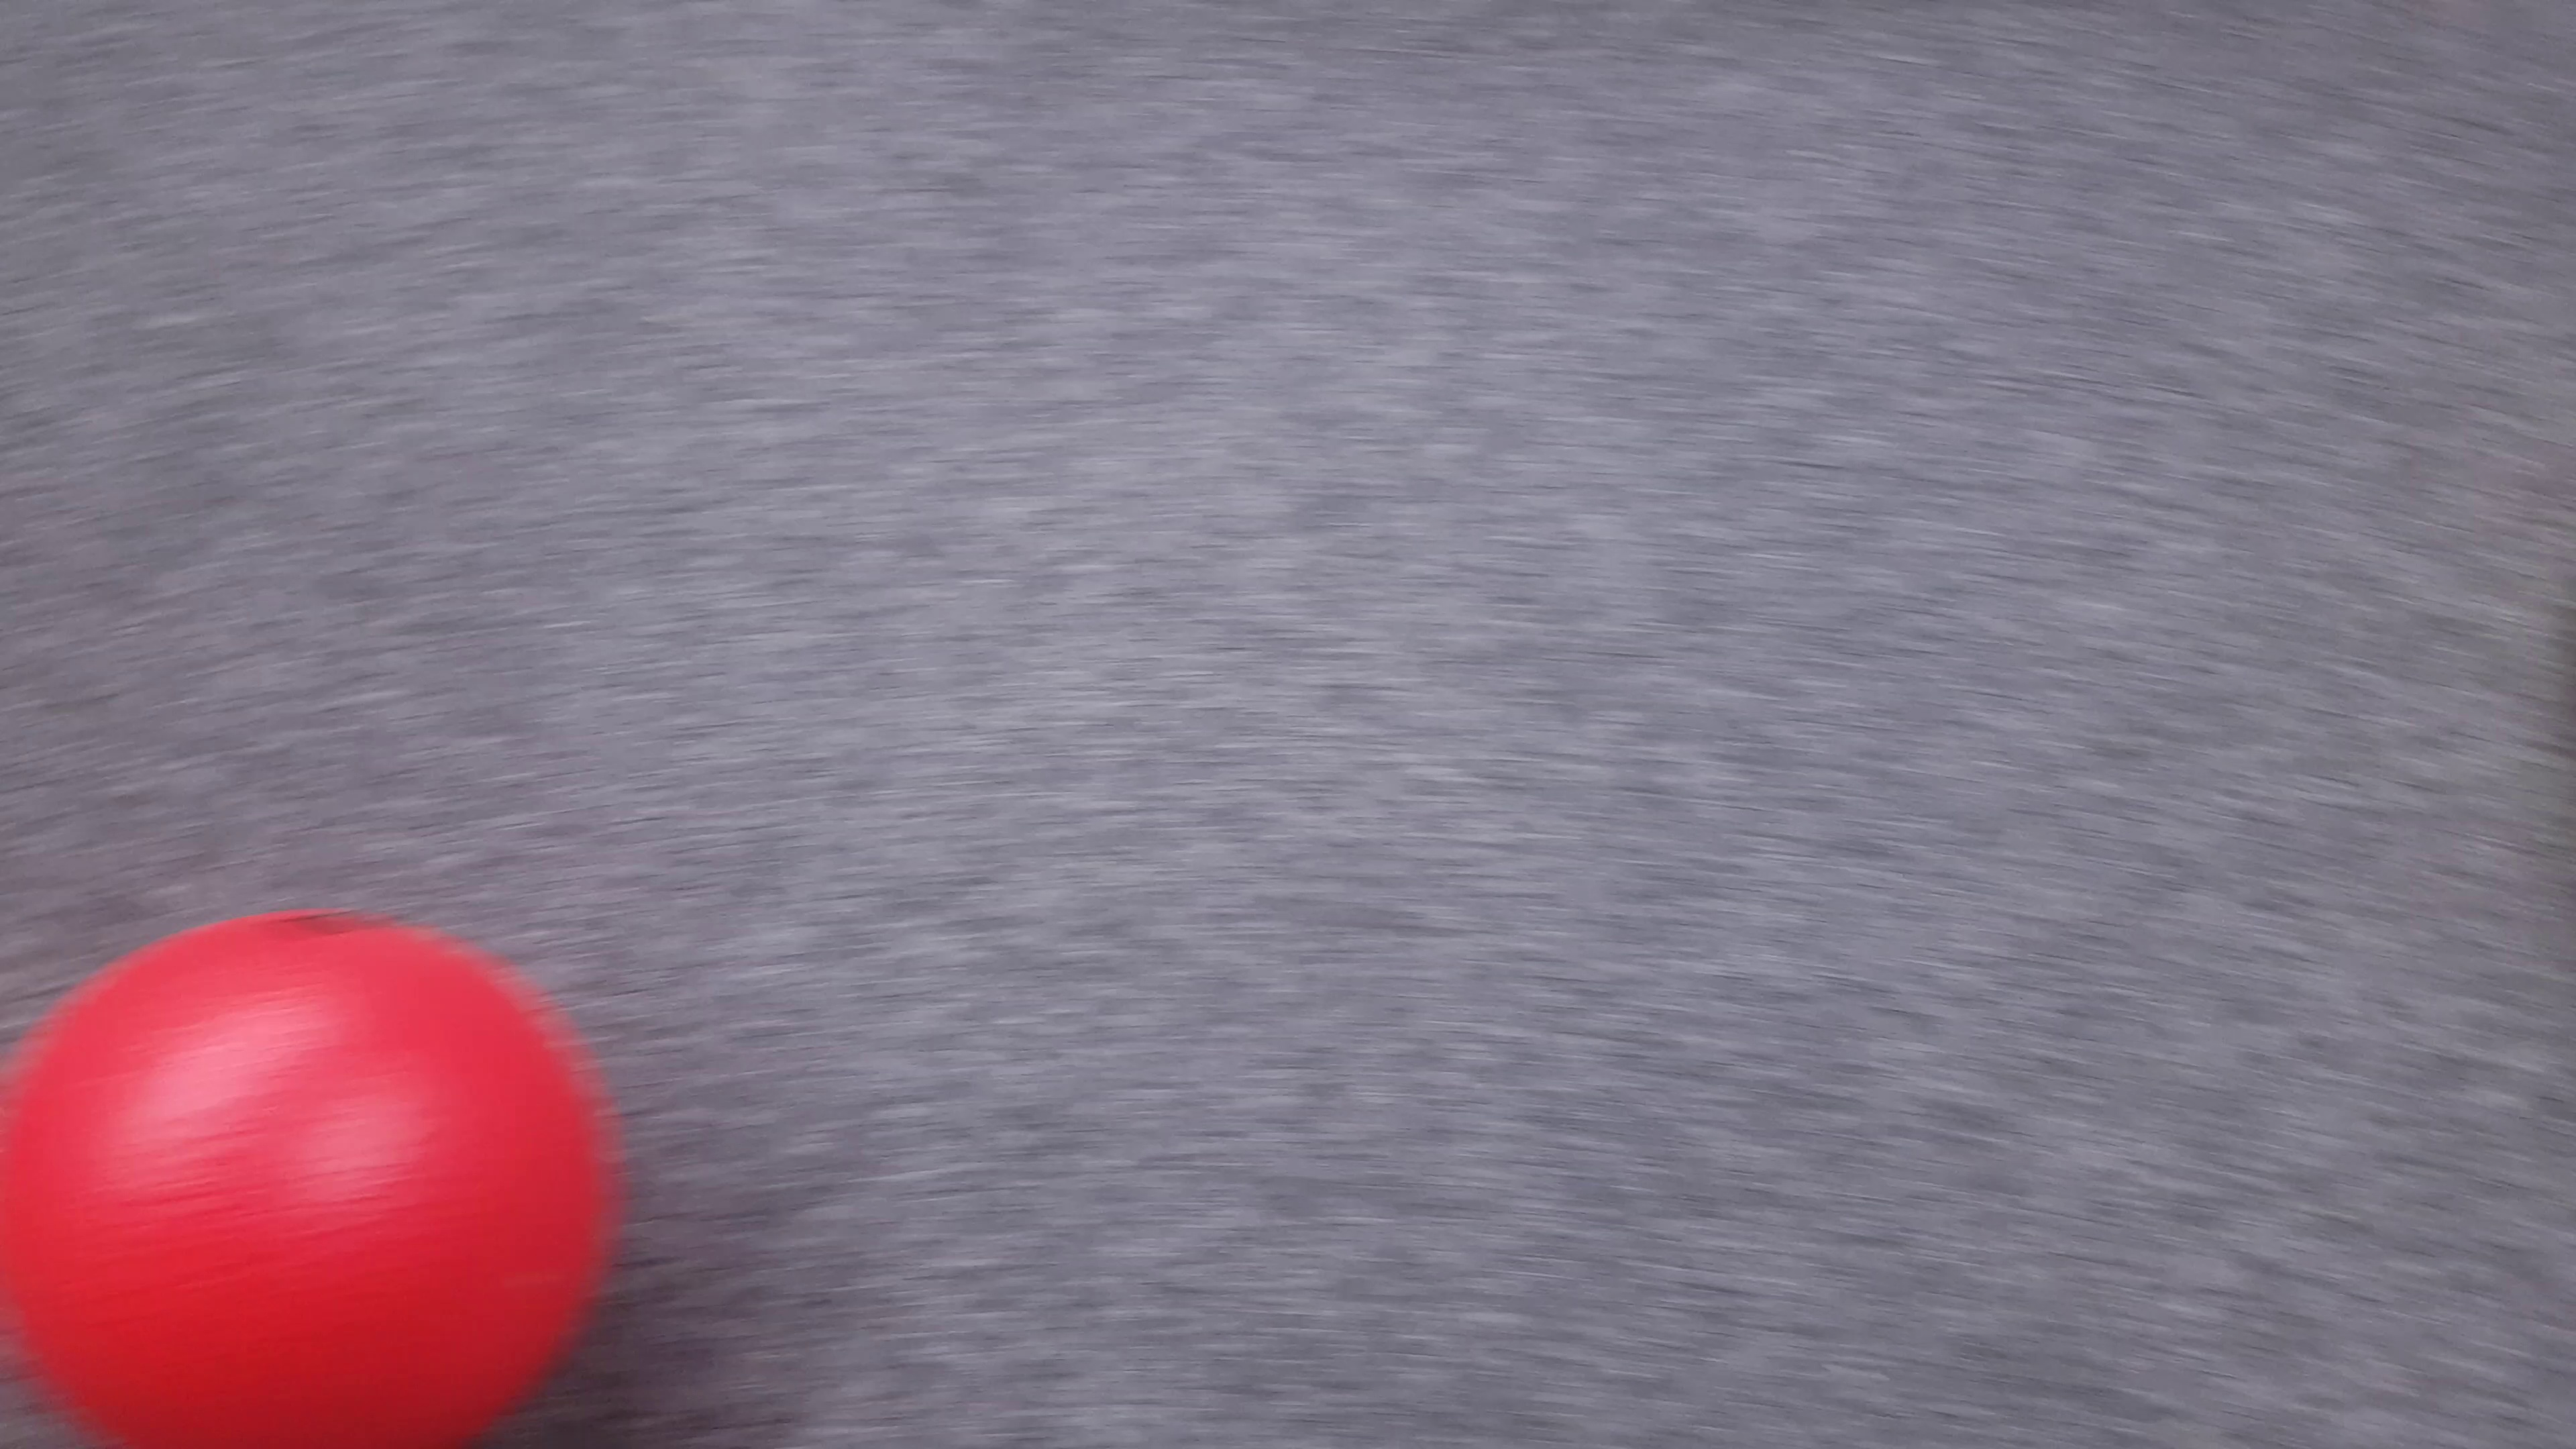kick: (7, 906, 639, 1449)
